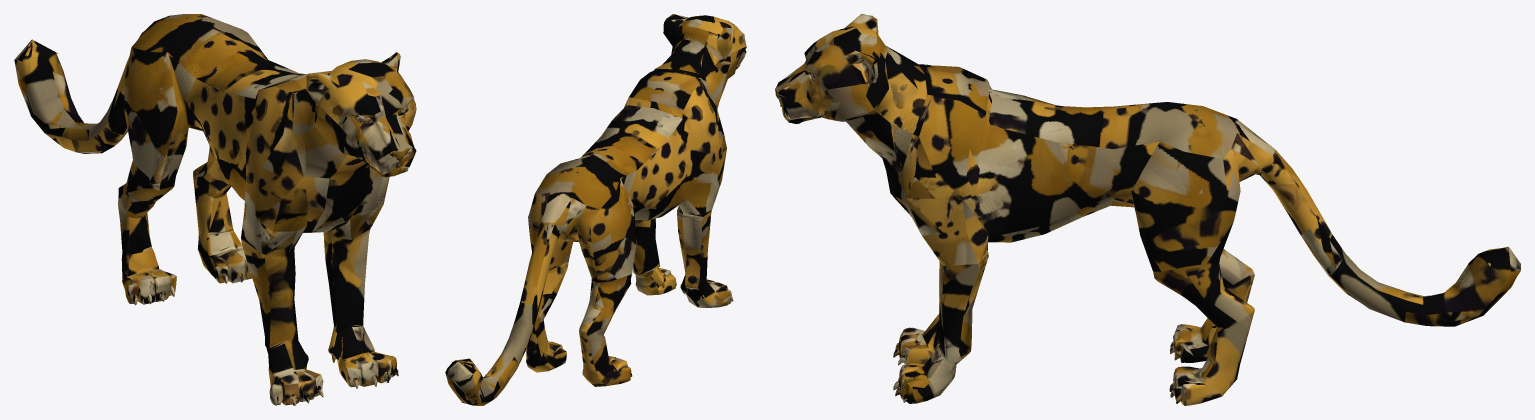
Rendered from creature_cheetah.fbx.
3 views of the same model, side by side, from view 1: azimuth 30°, elevation 25°; view 2: azimuth 150°, elevation 25°; view 3: azimuth 270°, elevation 25° (orthographic). The views are drawn at different scales.
Visible parts, largest first — view 1: creature_cheetah_body, creature_cheetah_head, creature_cheetah_leg_fr, creature_cheetah_leg_fl, creature_cheetah_leg_br, creature_cheetah_tail, creature_cheetah_leg_bl; view 2: creature_cheetah_body, creature_cheetah_head, creature_cheetah_leg_br, creature_cheetah_tail, creature_cheetah_leg_fr, creature_cheetah_leg_bl, creature_cheetah_leg_fl; view 3: creature_cheetah_body, creature_cheetah_head, creature_cheetah_leg_bl, creature_cheetah_tail, creature_cheetah_leg_fl, creature_cheetah_leg_br, creature_cheetah_leg_fr.
Part boxes in pixels (<box>): creature_cheetah_body: <box>114,14,383,254</box>; creature_cheetah_head: <box>256,52,416,231</box>; creature_cheetah_leg_fr: <box>241,228,323,405</box>; creature_cheetah_leg_fl: <box>323,215,398,388</box>; creature_cheetah_leg_br: <box>31,82,183,305</box>; creature_cheetah_tail: <box>14,39,127,153</box>; creature_cheetah_leg_bl: <box>124,127,251,283</box>; creature_cheetah_body: <box>520,68,726,308</box>; creature_cheetah_head: <box>656,14,746,182</box>; creature_cheetah_leg_br: <box>474,274,632,405</box>; creature_cheetah_tail: <box>445,303,532,405</box>; creature_cheetah_leg_fr: <box>677,206,733,307</box>; creature_cheetah_leg_bl: <box>526,261,568,372</box>; creature_cheetah_leg_fl: <box>633,218,676,295</box>; creature_cheetah_body: <box>892,64,1332,271</box>; creature_cheetah_head: <box>775,14,942,235</box>; creature_cheetah_leg_bl: <box>1141,220,1482,405</box>; creature_cheetah_tail: <box>1328,234,1520,322</box>; creature_cheetah_leg_fl: <box>893,250,988,403</box>; creature_cheetah_leg_br: <box>1170,249,1254,362</box>; creature_cheetah_leg_fr: <box>893,262,940,365</box>.
Size of the model in its own units: 188 by 462 by 914.
Materials: 1 (1 with a texture image).
